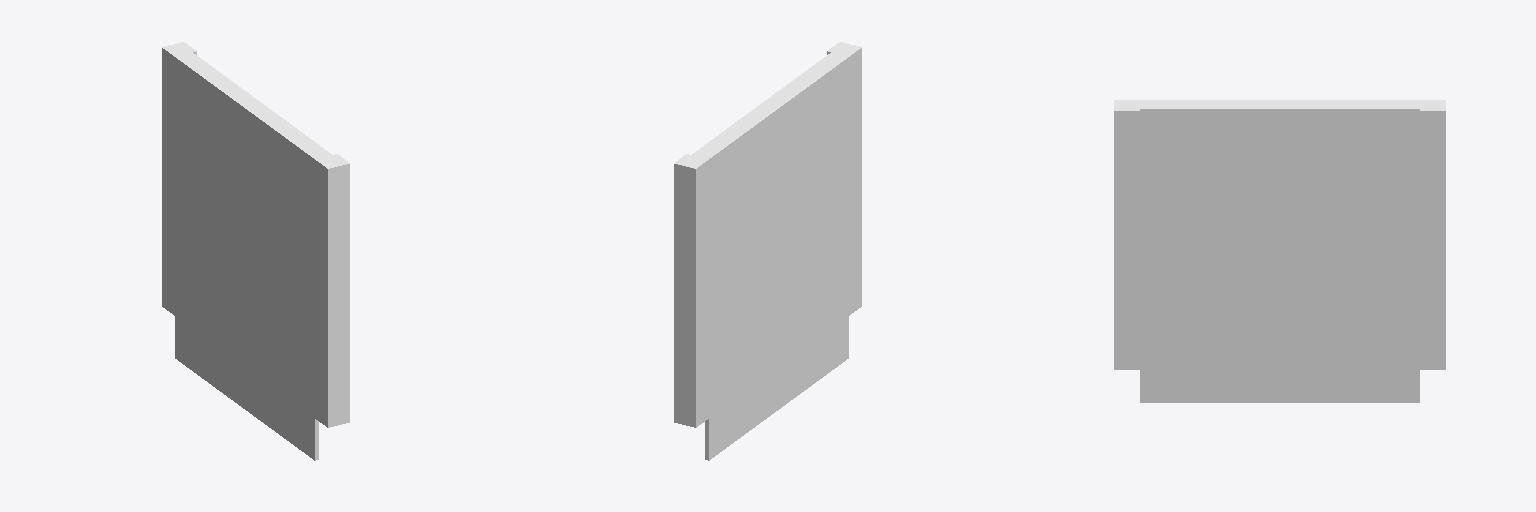
The model's file is Wall-E.obj.
3 views of the same model, side by side, from view 1: azimuth 30°, elevation 25°; view 2: azimuth 150°, elevation 25°; view 3: azimuth 270°, elevation 25° (orthographic).
Bounding box in the file's own units: 5 × 64 × 64.